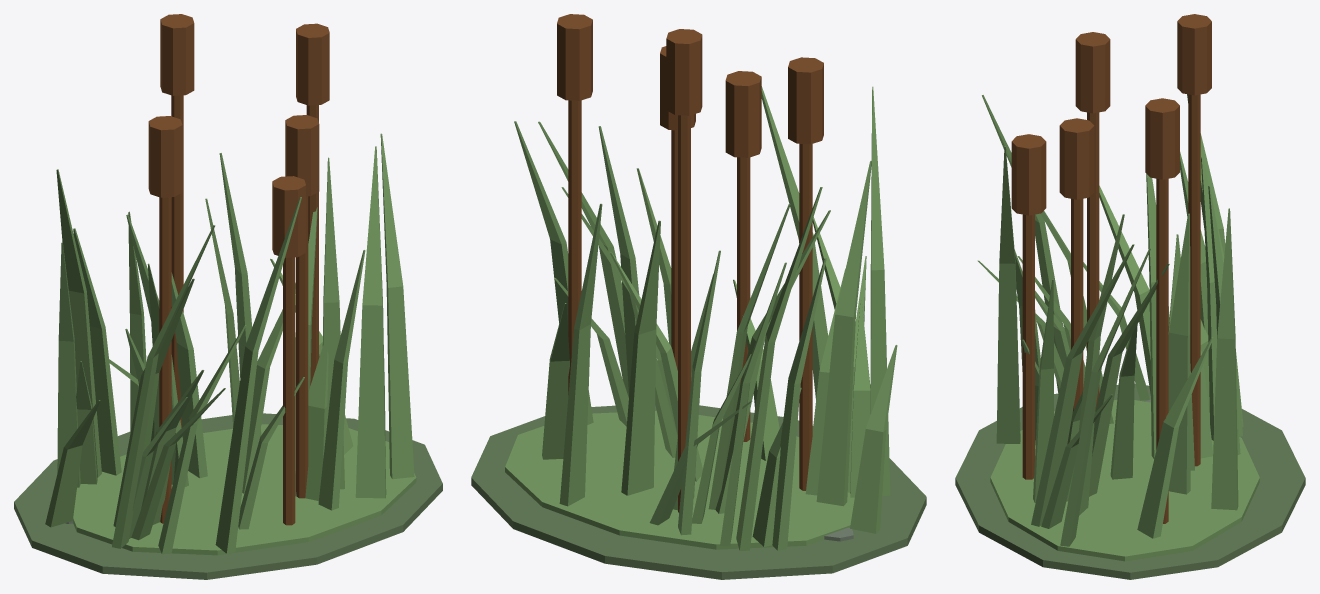
Rendered from SM_EmbermereMarshReedCluster_01.fbx.
3 renders of one model, left to right at view 1: azimuth 30°, elevation 25°; view 2: azimuth 150°, elevation 25°; view 3: azimuth 270°, elevation 25°, orthographic. The views are drawn at different scales.
Visible parts, largest first — view 1: SM_EmbermereMarshReedCluster_01; view 2: SM_EmbermereMarshReedCluster_01; view 3: SM_EmbermereMarshReedCluster_01.
Boxes of the visible parts, box(x1,y1,x2,y2) form: SM_EmbermereMarshReedCluster_01: box(14, 14, 442, 579); SM_EmbermereMarshReedCluster_01: box(471, 14, 926, 579); SM_EmbermereMarshReedCluster_01: box(955, 14, 1305, 579).
Bounding box in the file's own units: 168 × 131 × 188.
